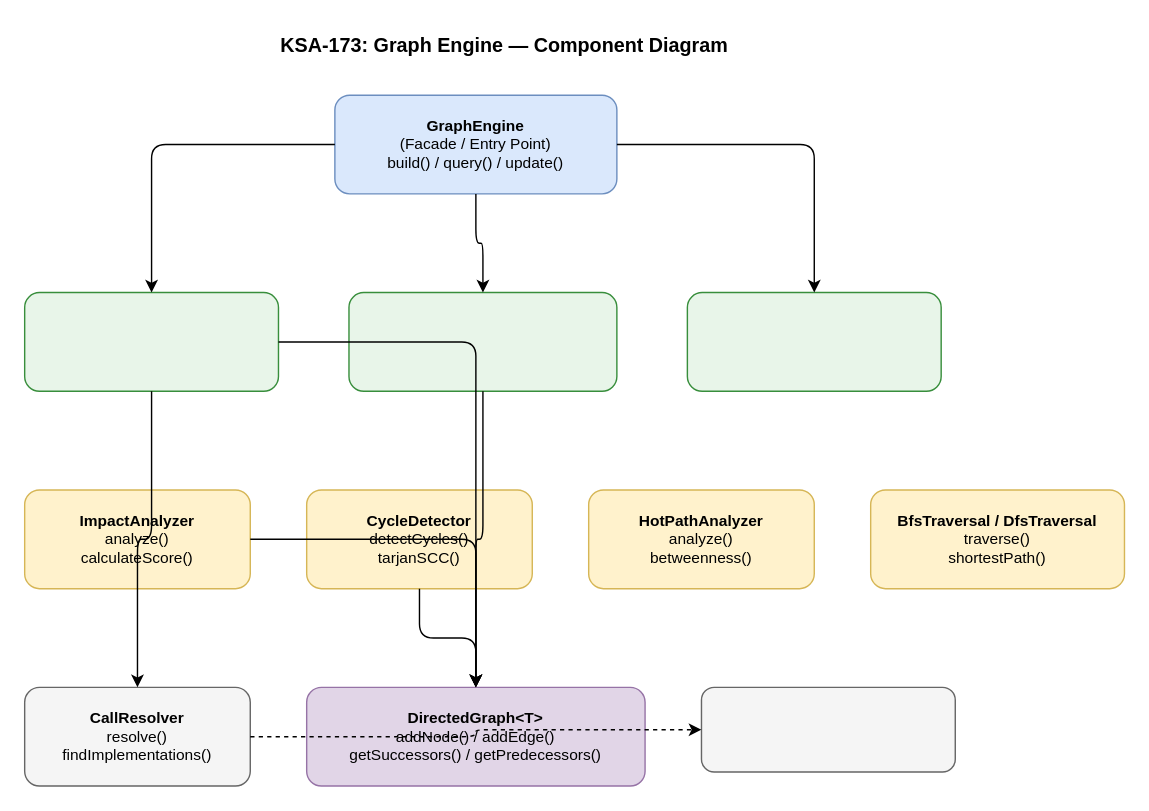
Some shapes in this 1149 by 811 pixel diagram are drawn without their labels. The shapes that lost their labels are listed below. From the top down, each one's box as (x1, y1, x2, y2) in pixels, then its label:
(23, 291, 278, 391): CallGraphBuilder extractCallEdges() resolveTargets()
(348, 291, 617, 391): DependencyGraphBuilder extractImports() resolveImportPaths()
(686, 291, 941, 391): IncrementalUpdater onFileChanged() processBatch()
(700, 686, 955, 772): ParserDataAdapter (KSA-172 interface)
